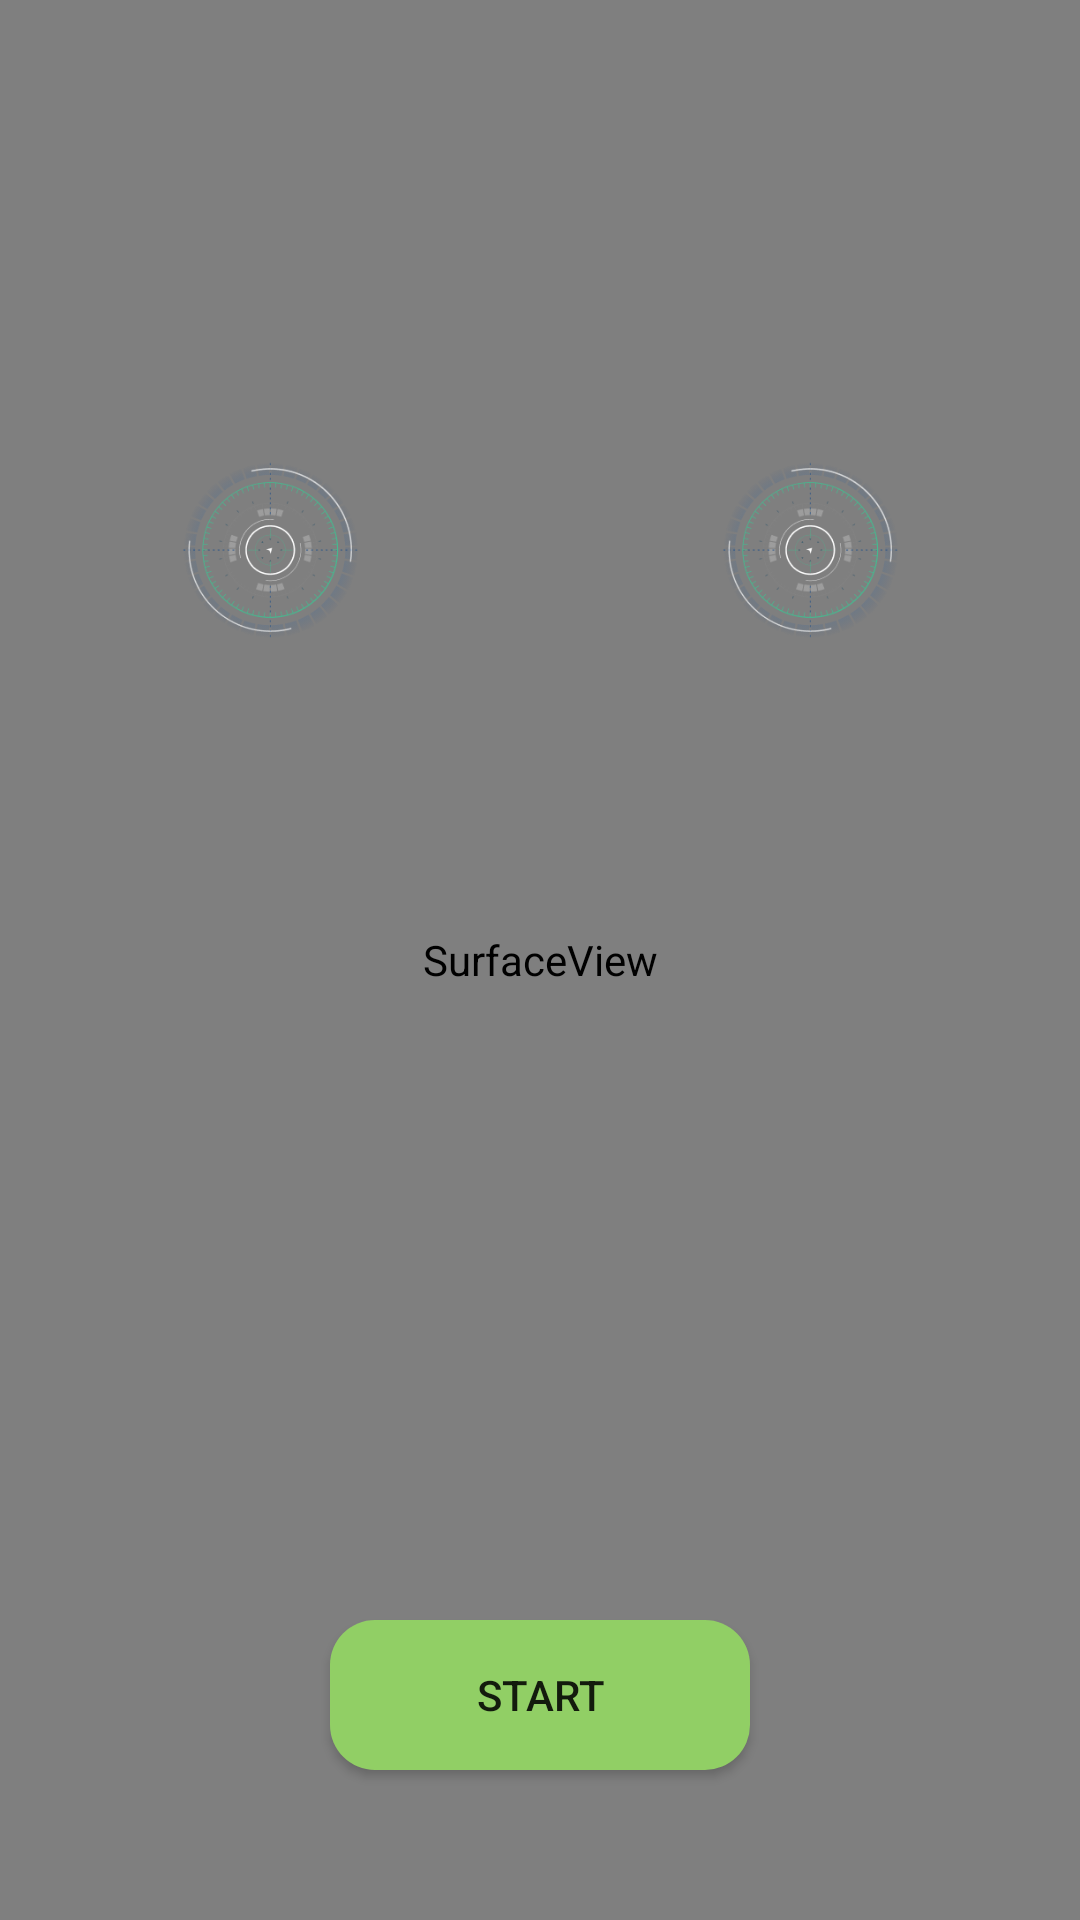

Locate icon controls on the screen. Image size 1080w x 1920h, boxes as (x1, y1, x2, y2).
eye circle: (184, 463, 357, 637), (724, 463, 897, 637)
